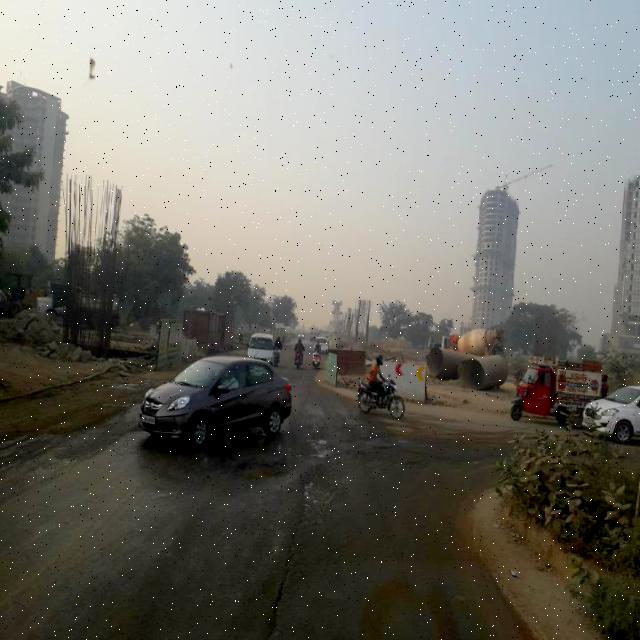D00: (253, 483, 315, 639)
